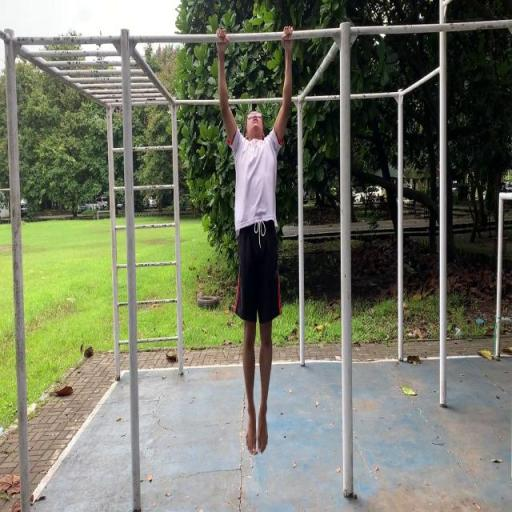Normal_BrenchPress: (214, 25, 296, 457)
